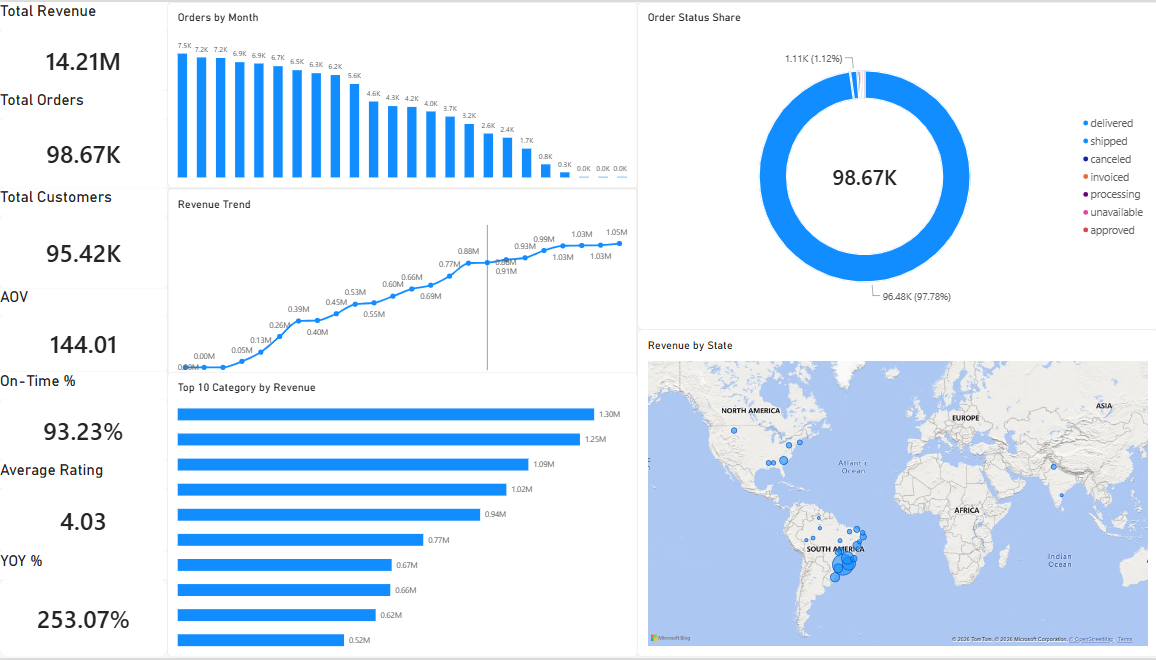

This screenshot's page, from the dashboard's own definition file:
{"tool":"powerbi","page":{"name":"Overview(Executive Dashboard)","canvas":[1920,1080],"ordinal":0},"visuals":[{"type":"cardVisual","title":"Total Revenue","fields":{"Data":["public bi_fact_sales.Revenue"]},"box":[0,0,275.8,146.1],"z":0},{"type":"cardVisual","title":"Total Orders","fields":{"Data":["public bi_fact_sales.Orders"]},"box":[0,146.1,275.8,160.5],"z":1000},{"type":"cardVisual","title":"Total Customers","fields":{"Data":["public bi_fact_sales.Customers"]},"box":[0,306.7,275.8,164.7],"z":2000},{"type":"cardVisual","title":"AOV","fields":{"Data":["public bi_fact_sales.AOV"]},"box":[0,471.4,275.8,137.9],"z":3000},{"type":"cardVisual","title":"On-Time %","fields":{"Data":["public bi_fact_sales.On_time%"]},"box":[0,609.3,275.8,146.1],"z":4000},{"type":"cardVisual","title":"Average Rating","fields":{"Data":["public bi_fact_sales.Avg_Rating"]},"box":[0,755.4,275.8,150.3],"z":5000},{"type":"cardVisual","title":"YOY %","fields":{"Data":["public bi_fact_sales.YOY%"]},"box":[0,905.7,275.8,172.9],"z":6000},{"type":"lineChart","title":"Revenue Trend","fields":{"Category":["DimDate.Year-Month"],"Y":["public bi_fact_sales.Revenue"]},"box":[275.8,306.7,773.9,317],"z":7000},{"type":"clusteredColumnChart","title":"Orders by Month","fields":{"Category":["DimDate.Year-Month"],"Y":["public bi_fact_sales.Orders"]},"box":[275.8,0,773.9,306.7],"z":8000},{"type":"barChart","title":"Top 10 Category by Revenue","fields":{"Category":["public bi_fact_sales.category"],"Y":["public bi_fact_sales.Revenue"]},"box":[275.8,609.3,773.9,469.3],"z":9000},{"type":"map","title":"Revenue by State","fields":{"Category":["public bi_fact_sales.customer_state"],"Size":["public bi_fact_sales.Revenue"]},"box":[1049.7,539.3,857.8,539.3],"z":10000},{"type":"donutChart","title":"Order Status Share","fields":{"Category":["public bi_fact_sales.order_status"],"Y":["public bi_fact_sales.Orders"]},"box":[1049.7,0,858.3,539.3],"z":11000}]}

Visuals, with their boxes in screenshot pixels (x1, y1, x2, y2), scaled from the page's 1920x1080 canvas onto the 1156x660 screenshot:
"Total Revenue" cardVisual: locate(0, 0, 166, 89)
"Total Orders" cardVisual: locate(0, 89, 166, 187)
"Total Customers" cardVisual: locate(0, 187, 166, 288)
"AOV" cardVisual: locate(0, 288, 166, 372)
"On-Time %" cardVisual: locate(0, 372, 166, 462)
"Average Rating" cardVisual: locate(0, 462, 166, 553)
"YOY %" cardVisual: locate(0, 553, 166, 659)
"Revenue Trend" lineChart: locate(166, 187, 632, 381)
"Orders by Month" clusteredColumnChart: locate(166, 0, 632, 187)
"Top 10 Category by Revenue" barChart: locate(166, 372, 632, 659)
"Revenue by State" map: locate(632, 330, 1148, 659)
"Order Status Share" donutChart: locate(632, 0, 1149, 330)
